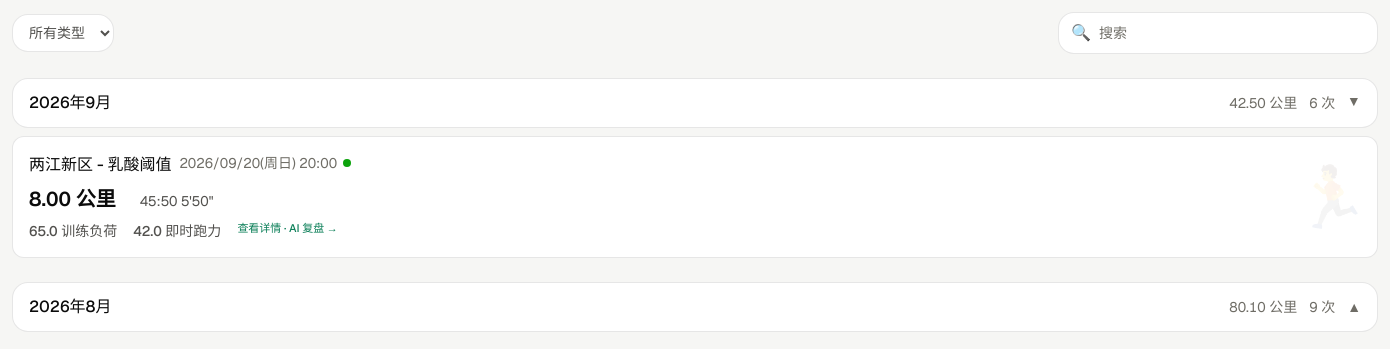
Test: ListClient 活动列表 (交互/筛选/无限滚动) › 点击已加载月份不重复 fetch (缓存命中)
Step 1. Click the button "2026年9月 42.50 公里 6 次 ▲" → (70, 102), box left=12, top=78, right=1378, bottom=128
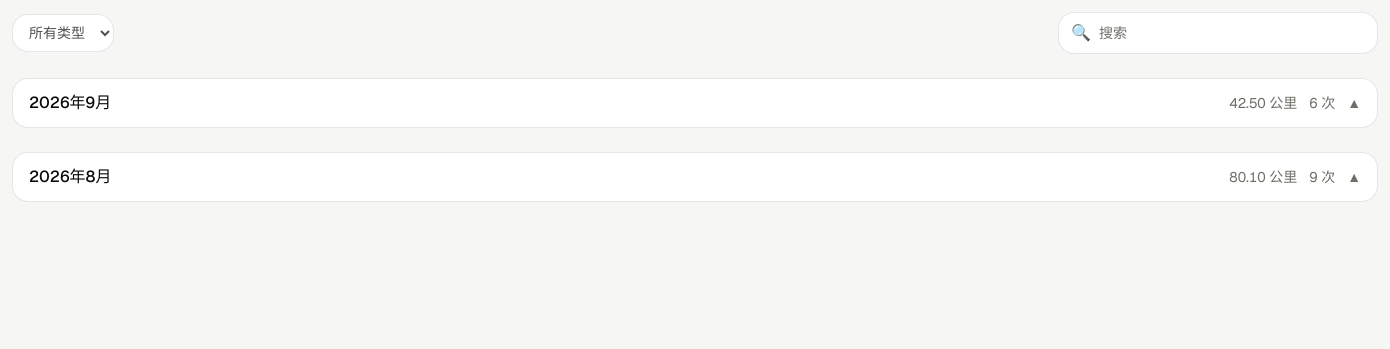
Step 2. Click the button "2026年9月 42.50 公里 6 次 ▲" → (70, 102), box left=12, top=78, right=1378, bottom=128
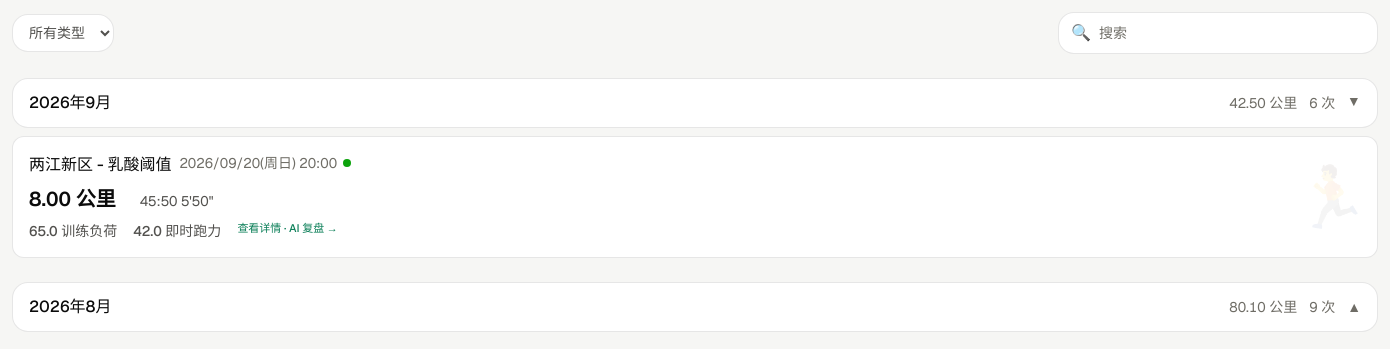
Expected: the button "两江新区 - 乳酸阈值" is shown, left=12, top=136, right=1378, bottom=258
